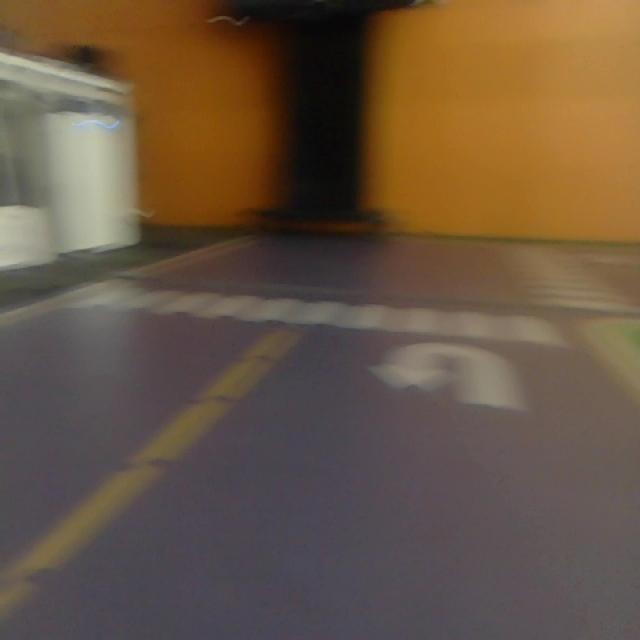left_lane: (0, 327, 305, 618), (582, 323, 640, 401)
